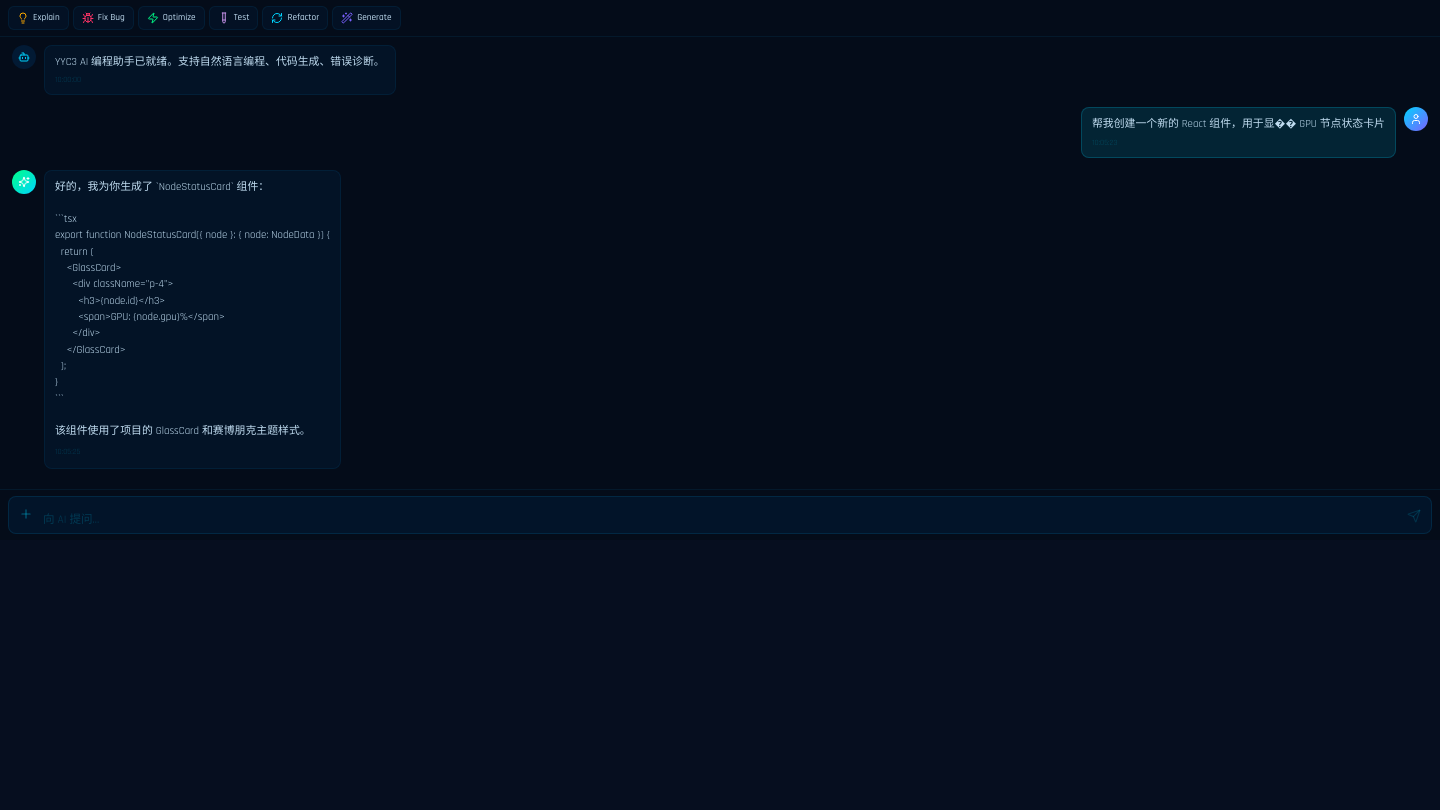
Test: AIChatPanel › 发送消息 › 非预设问题走通用回复
In the text box with placeholder "向 AI 提问...": (720, 520) [43, 511, 1397, 529], type "你好呀"
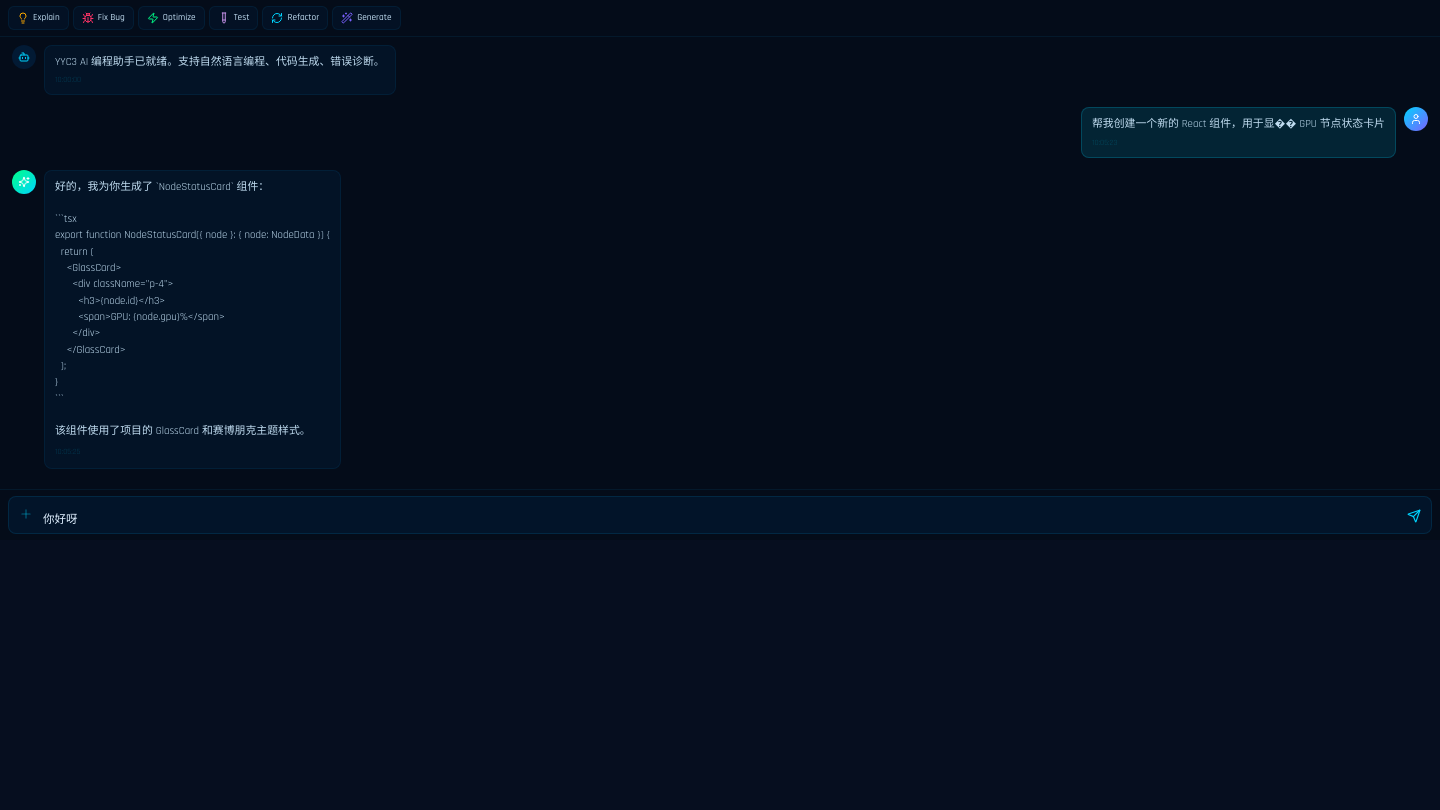
Press Enter in the text box with placeholder "向 AI 提问...", box [43, 511, 1397, 529]
Wait 2500 ms
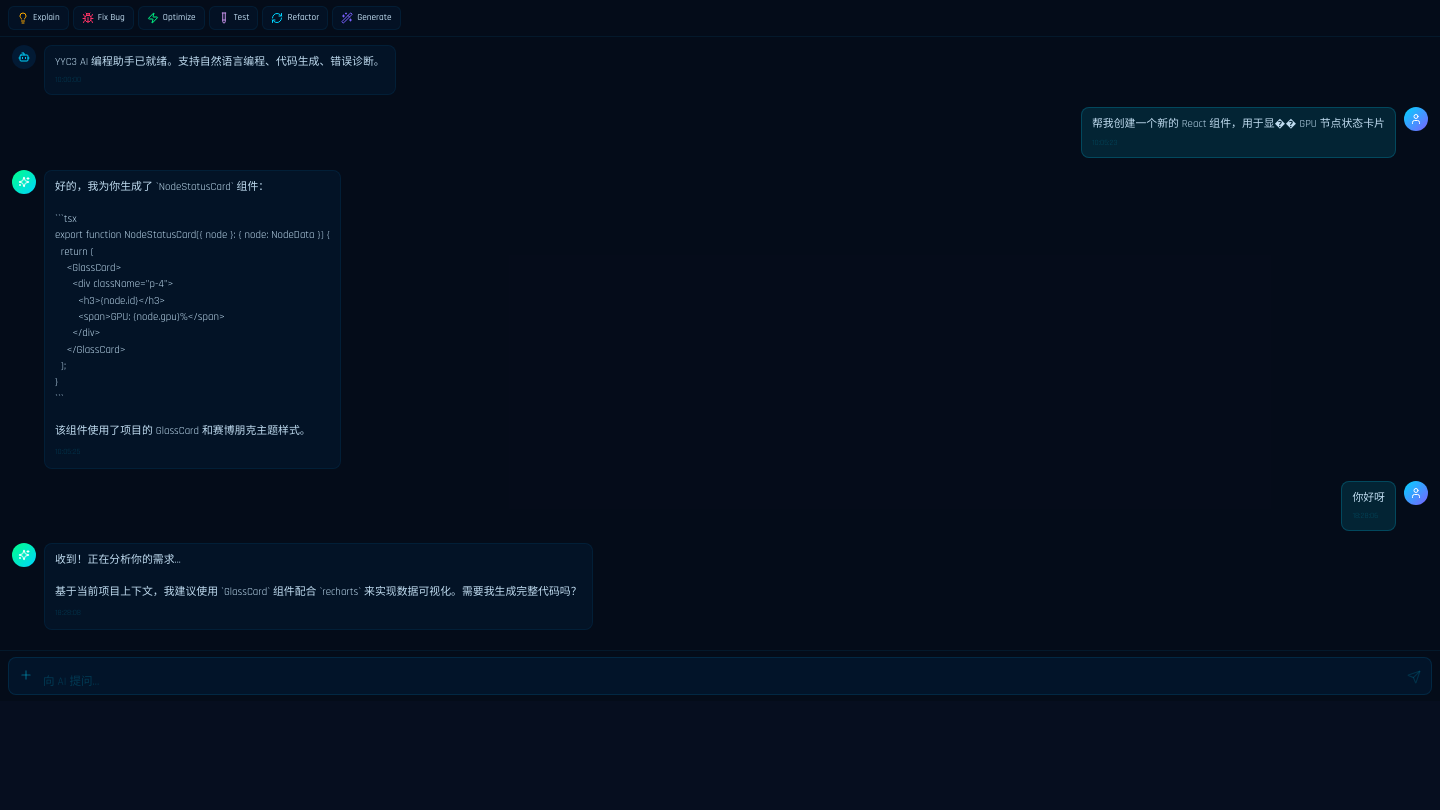
expect the text "收到！正在分析你的需求" is shown: met, box [55, 553, 582, 600]
